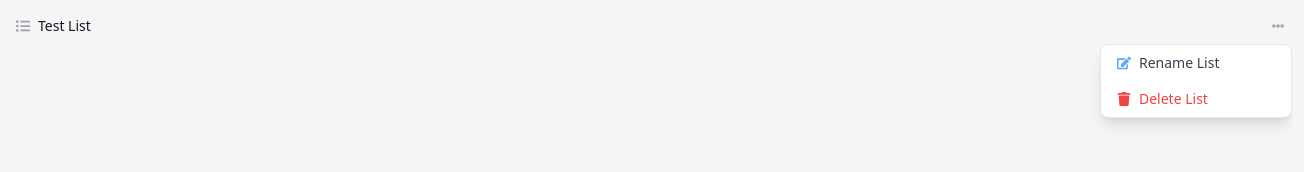
SidebarList › should show rename input when clicking rename option
The width and height of the screenshot is (1304, 172).
Click the button "Rename List". click: (1196, 63)
box: left=1101, top=45, right=1291, bottom=81
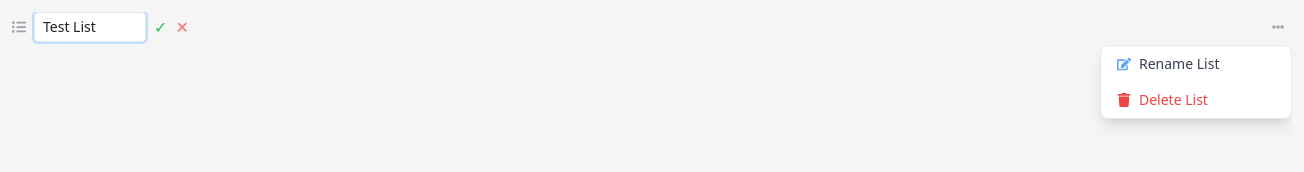
expect the field is shown: met, box left=34, top=12, right=146, bottom=42
expect the button titled "Confirm" is shown: met, box left=154, top=15, right=167, bottom=39
expect the button titled "Cancel" is shown: met, box left=175, top=15, right=189, bottom=39
